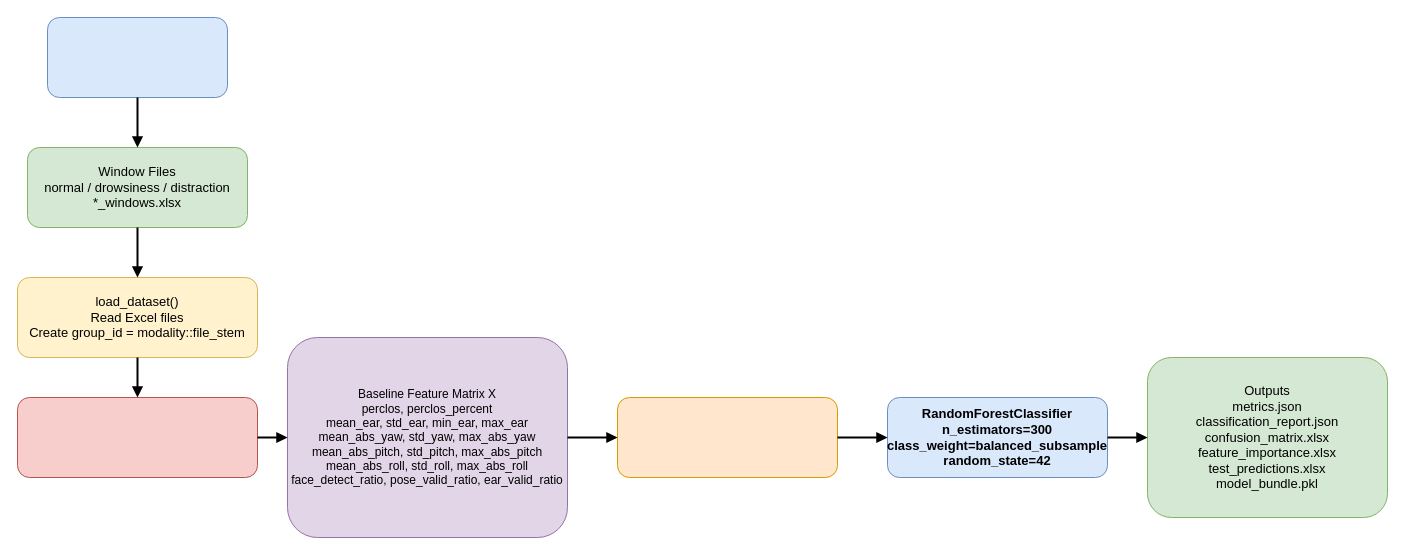
The diagram is 1405 pixels wide and 555 high, and some of its shapes have lost their labels. The centre of each missing label's shape, as x and y in pixels:
"build_split() StratifiedGroupKFold or group-aware fallback split" goes at point 727,437.
"filter_dataset() Keep only is_usable = 1 Drop NA on feature columns" goes at point 137,437.
"Input Root window_dataset/" goes at point 137,57.
